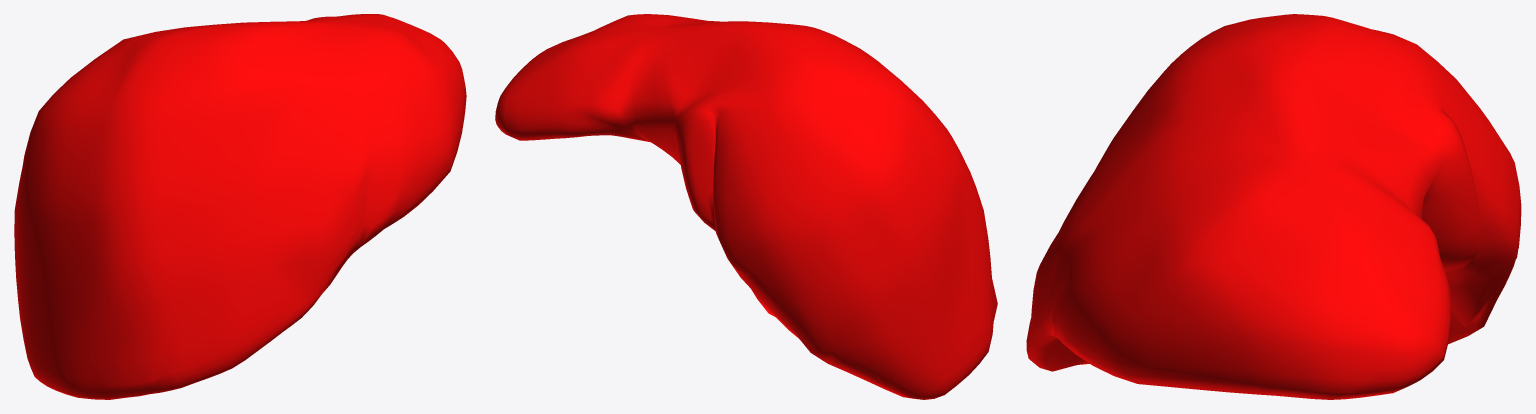
The model's file is visual_foie_end.obj.
The picture shows the model from 3 angles, left to right: view 1: azimuth 30°, elevation 25°; view 2: azimuth 150°, elevation 25°; view 3: azimuth 270°, elevation 25°; orthographic projection. The views are drawn at different scales.
Visible parts, largest first — view 1: 1_VisualModel; view 2: 1_VisualModel; view 3: 1_VisualModel.
Part boxes in pixels (<box>): 1_VisualModel: <box>14,14,466,399</box>; 1_VisualModel: <box>495,14,997,399</box>; 1_VisualModel: <box>1026,14,1521,399</box>.
Bounding box in the file's own units: 6.65 × 4.63 × 4.54.
